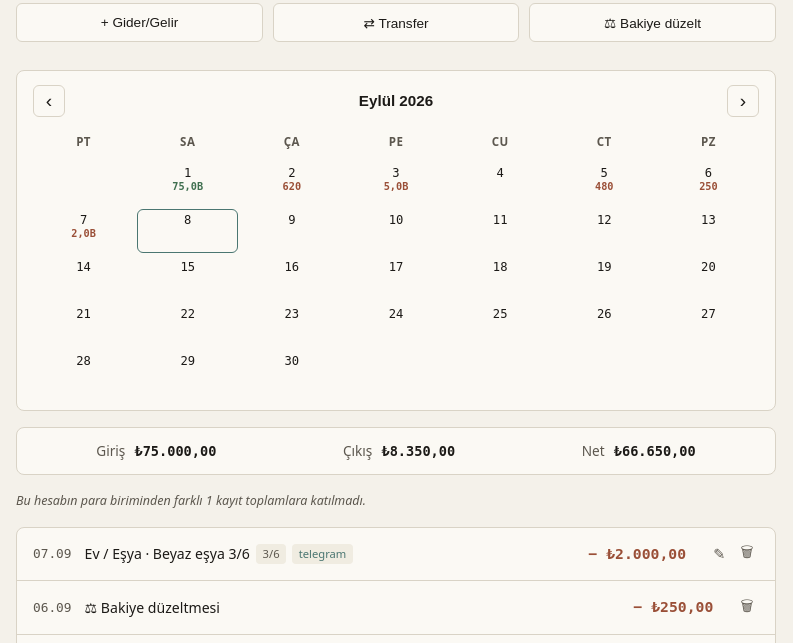
Hesap detayı › (b) form açıkken ikinci kaydın Düzenle'sine basınca #hf-tutar o kaydın tutarını göstermeli
Click the button titled "Düzenle" in the row of "07.09" at (719, 554), box [708, 543, 731, 565]
(page scrolled)
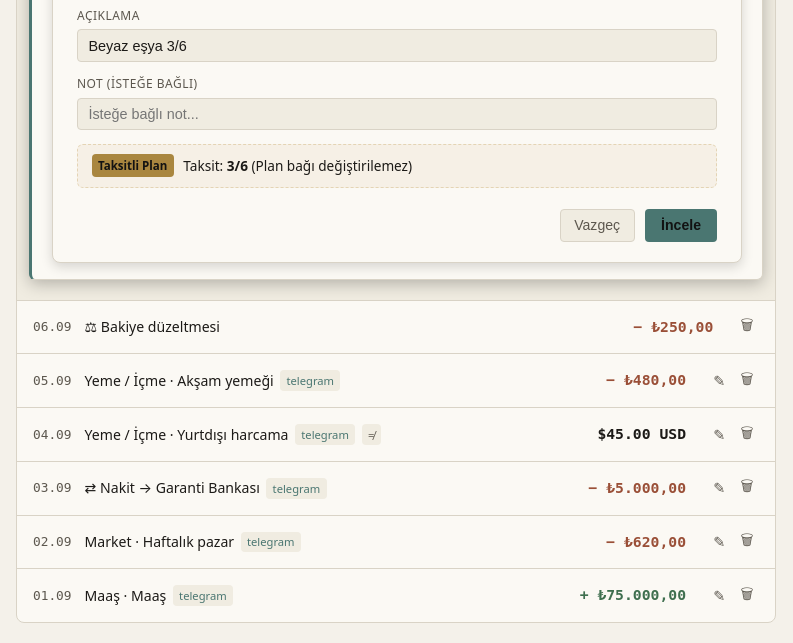
Click the button titled "Düzenle" in the row of "05.09" at (719, 381), box [708, 370, 731, 392]
(page scrolled)
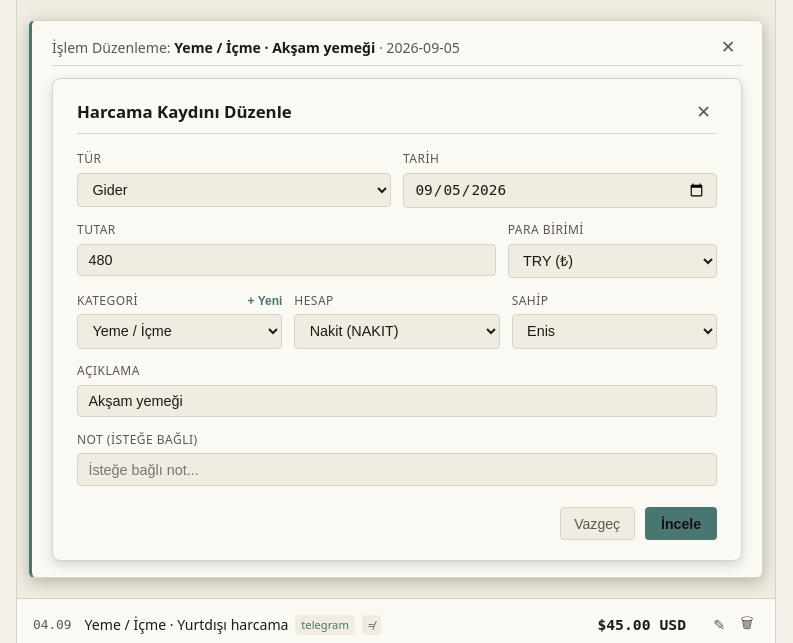
Expected: the number field with id "hf-tutar" does not hold "2000", [77, 244, 496, 276]
